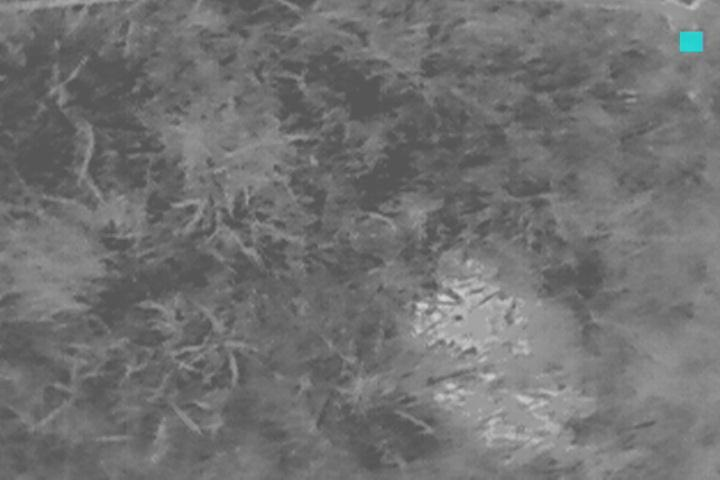landmine: (405, 279, 530, 366)
